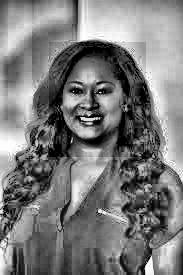happy: (50, 42, 147, 157)
